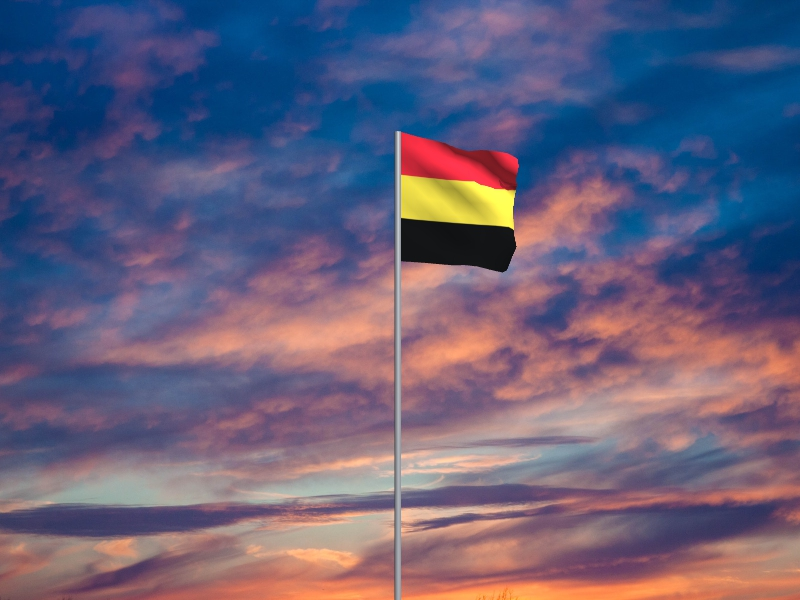be: (402, 133, 521, 274)
